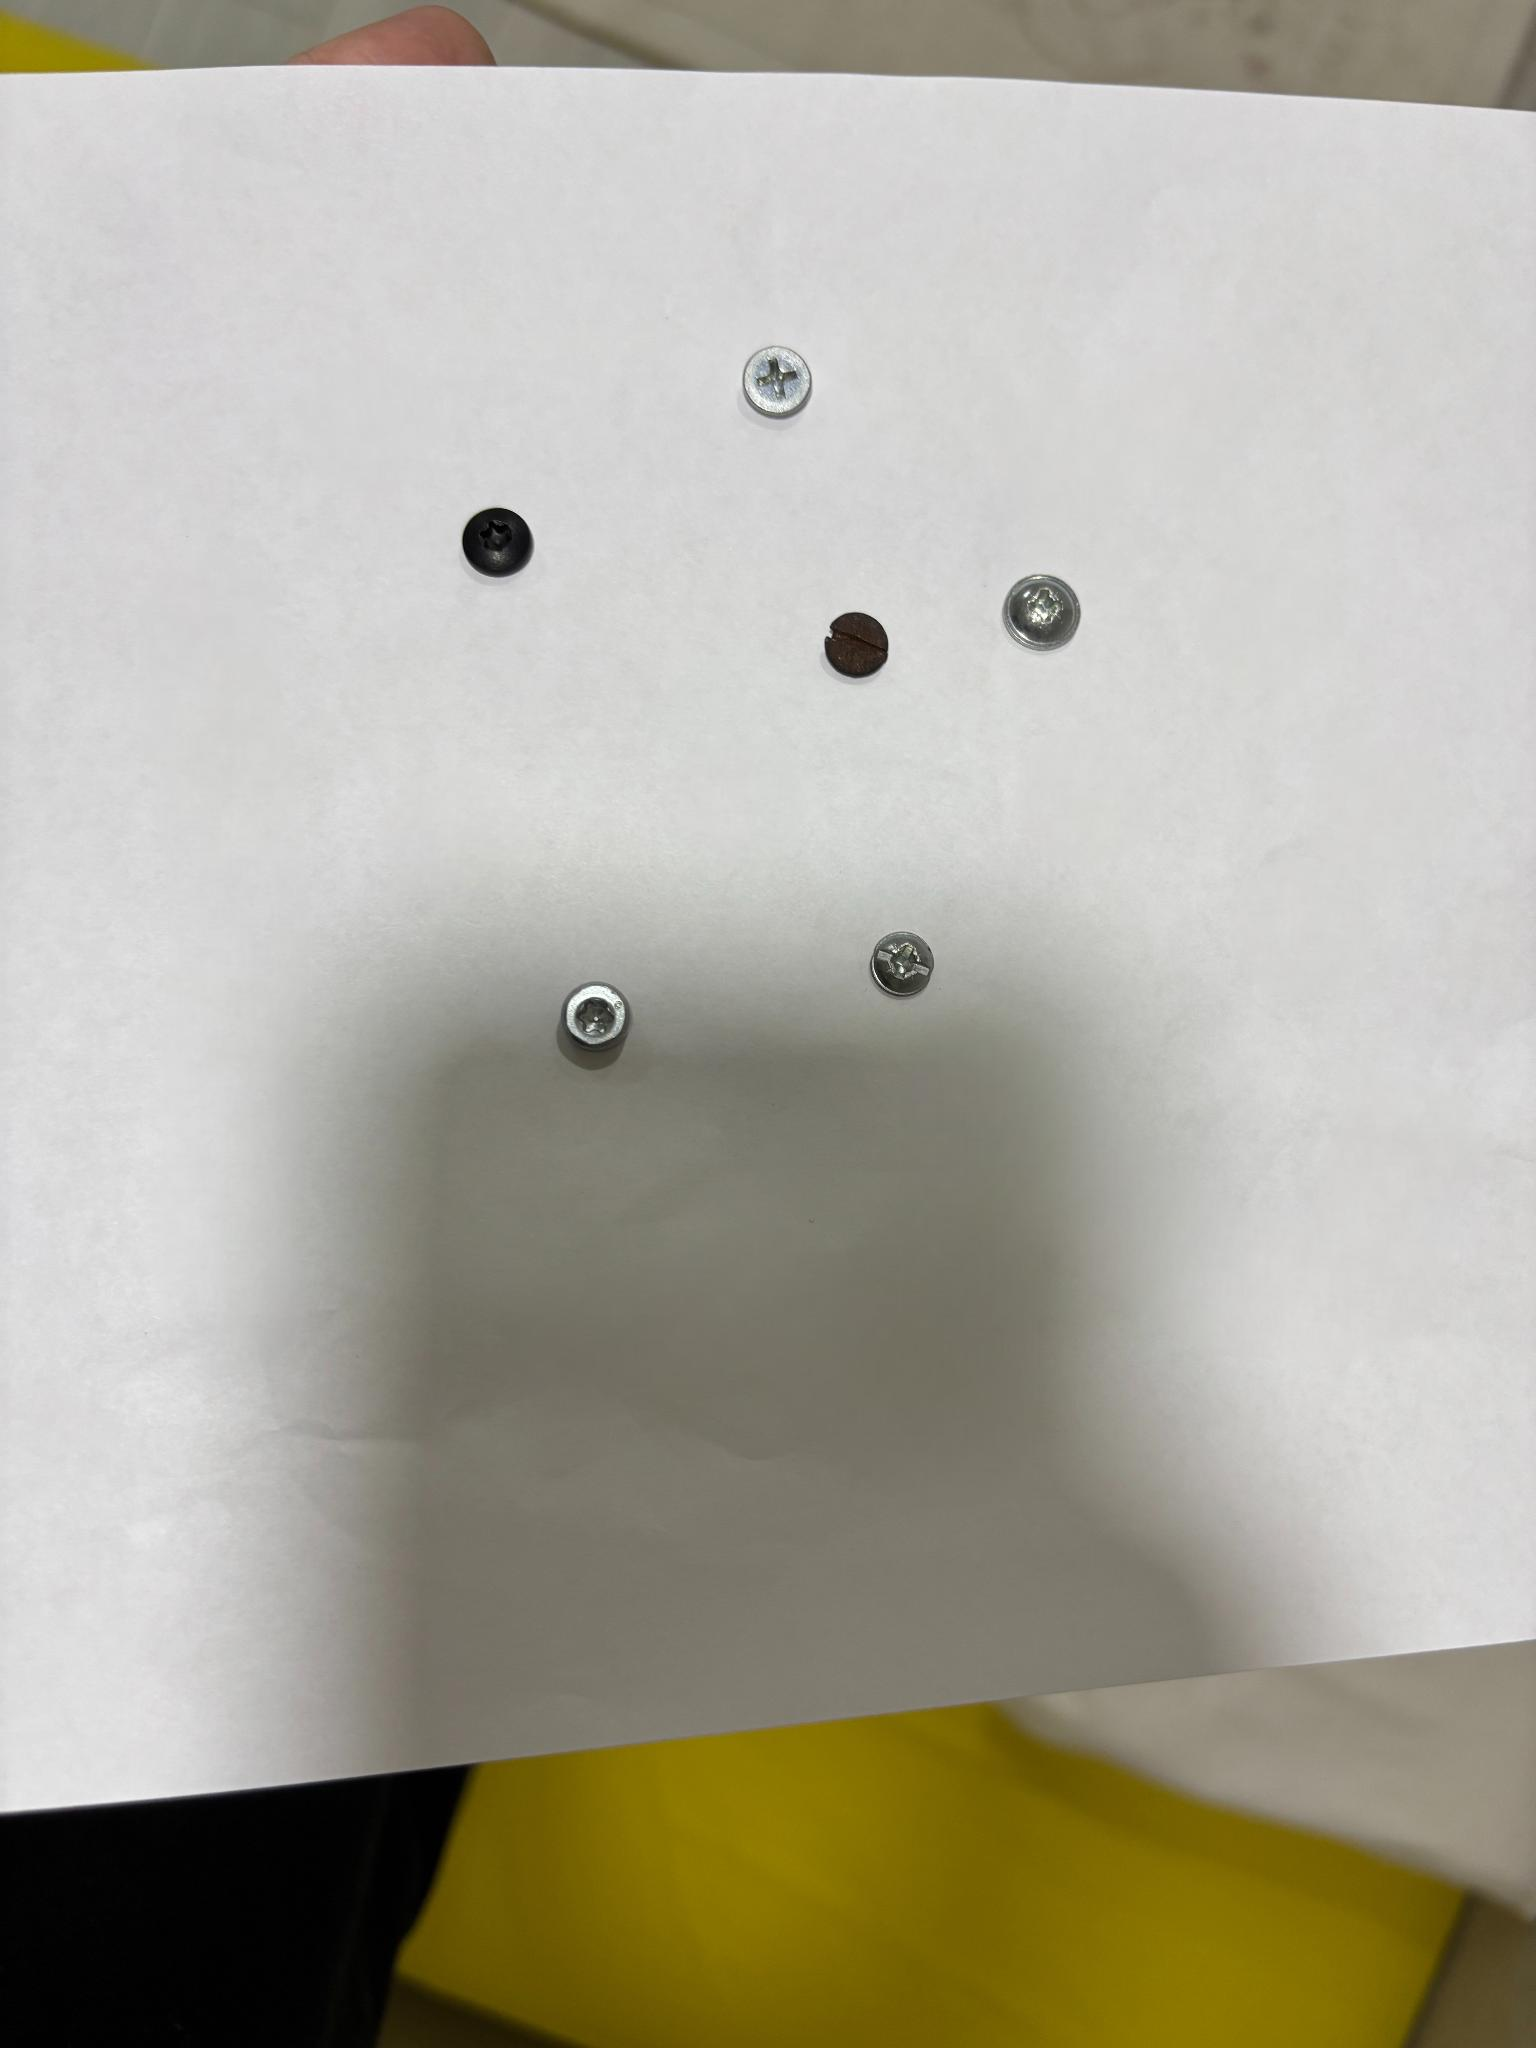H: (463, 508, 532, 577)
PH: (742, 347, 812, 416)
PZ: (1004, 574, 1079, 650), (871, 930, 933, 995)
SL: (824, 613, 887, 679)
T: (563, 984, 629, 1051)
